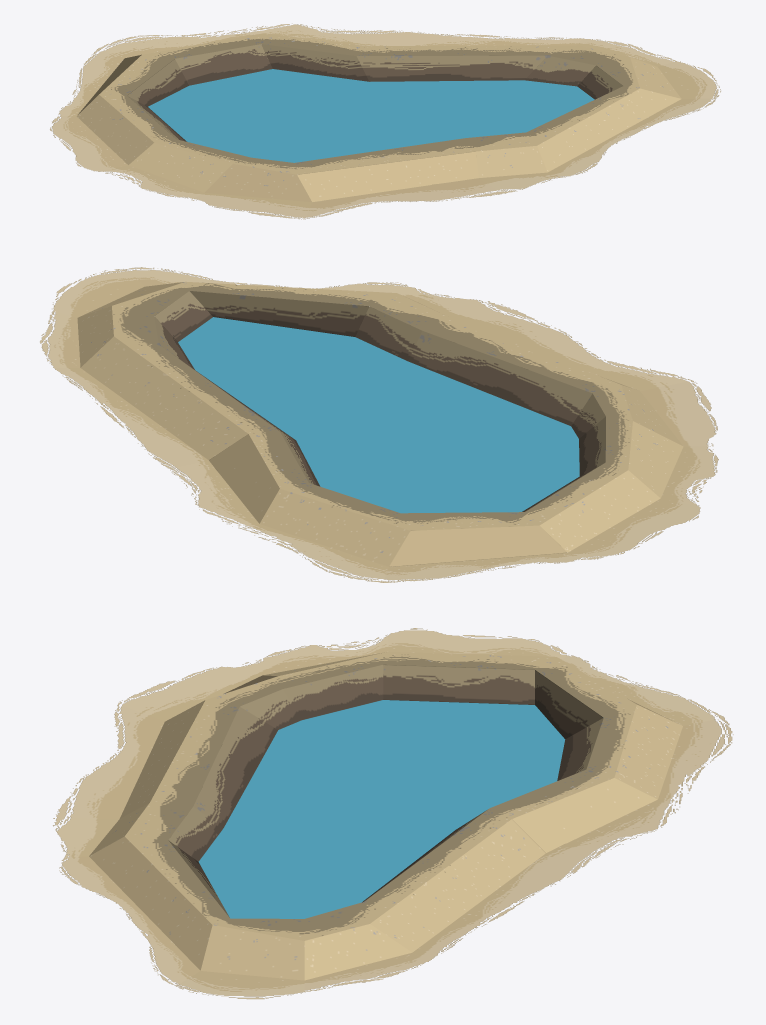
File: Pond.fbx
3 views of the same model, one above another, from view 1: azimuth 30°, elevation 25°; view 2: azimuth 150°, elevation 25°; view 3: azimuth 270°, elevation 25° (orthographic). The views are drawn at different scales.
Visible parts, largest first — view 1: Pond, Water; view 2: Pond, Water; view 3: Pond, Water.
Boxes of the visible parts, bbox=[...] form: Pond: bbox=[50, 23, 720, 219]; Water: bbox=[148, 69, 594, 162]; Pond: bbox=[40, 267, 718, 582]; Water: bbox=[178, 317, 579, 513]; Pond: bbox=[53, 628, 733, 999]; Water: bbox=[198, 700, 565, 918].
Bounding box in the file's own units: 1918 × 50 × 1539.
2 materials, 2 textured.
